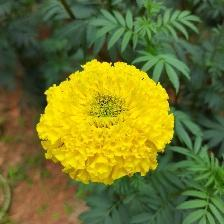marigold: (38, 60, 178, 184)
